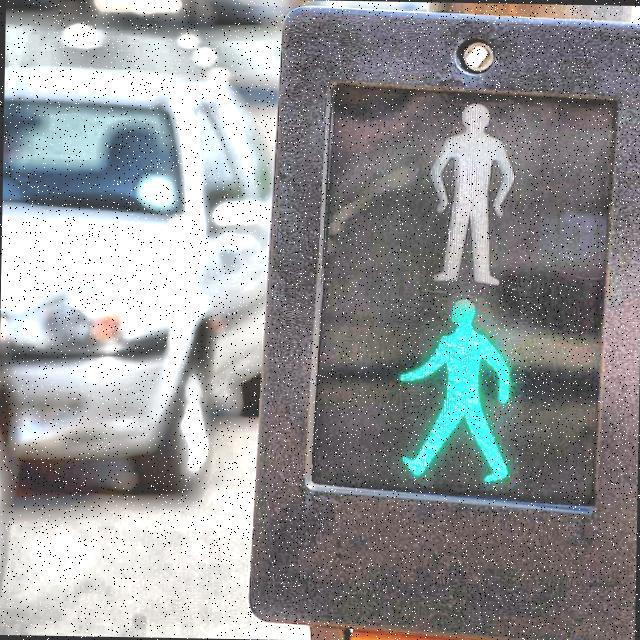green_light: (390, 292, 518, 486)
